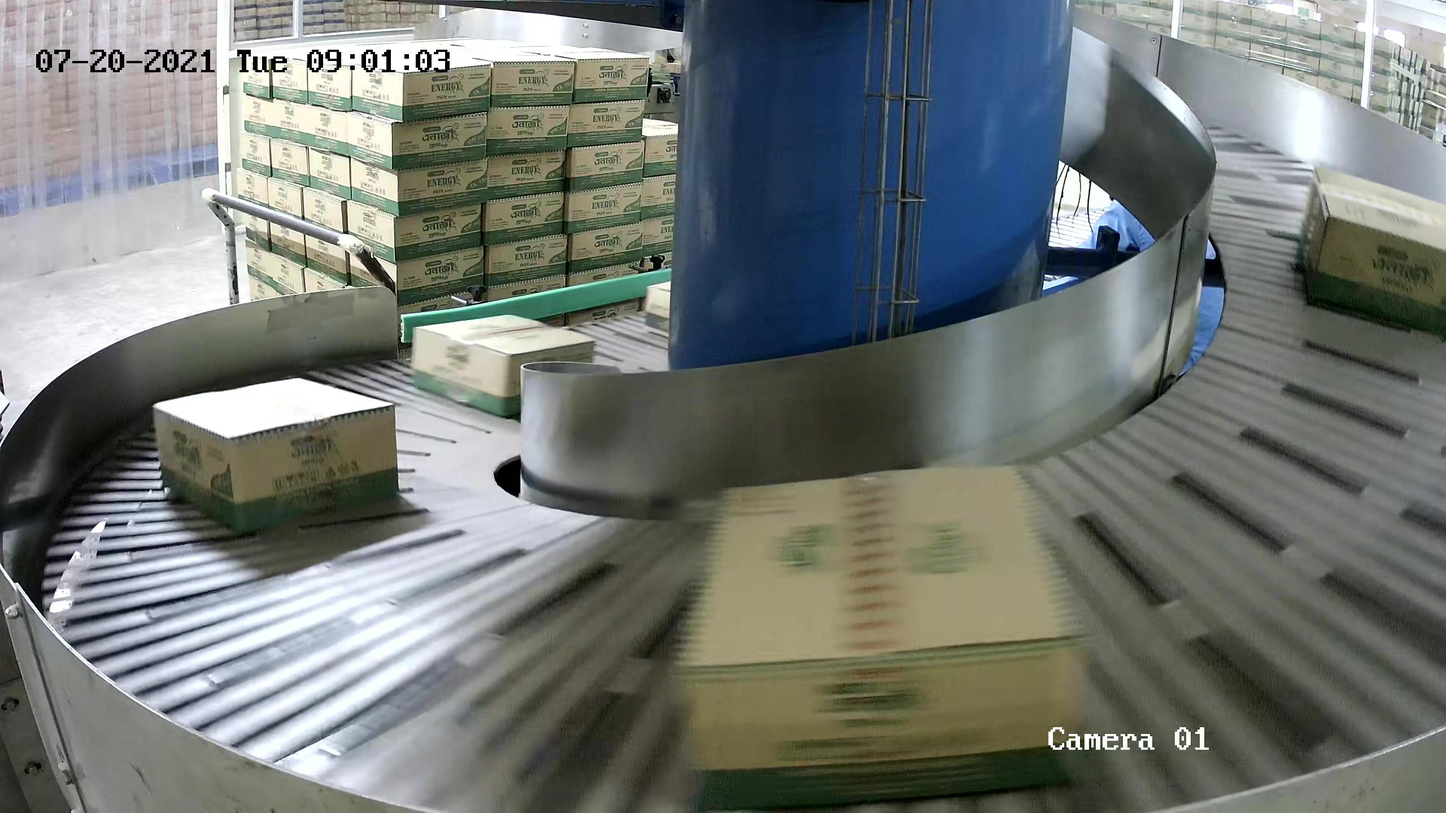Box: (669, 456, 1096, 813), (151, 374, 402, 535), (1296, 162, 1446, 337), (410, 312, 596, 418), (643, 277, 671, 346)
